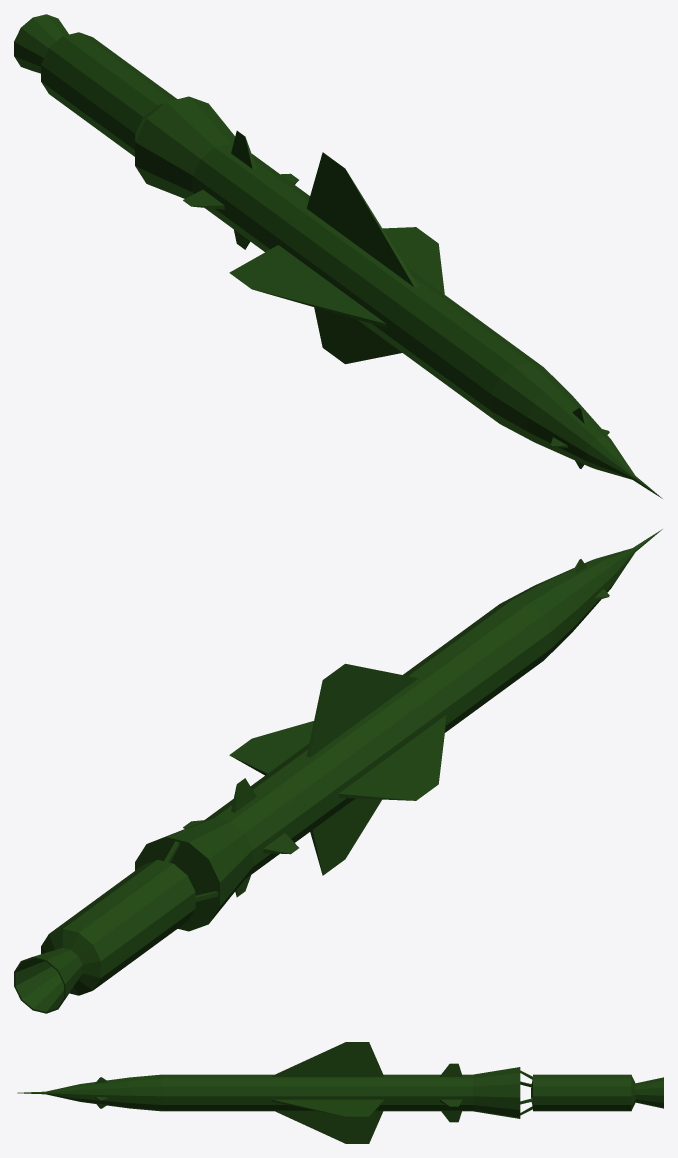
The picture shows the model from 3 angles, top to bottom: view 1: azimuth 30°, elevation 25°; view 2: azimuth 150°, elevation 25°; view 3: azimuth 270°, elevation 25°; orthographic projection. The views are drawn at different scales.
Parts seen in each view (by area): view 1: body; view 2: body; view 3: body.
Boxes of the visible parts, <box> form: body: <box>14,14,662,498</box>; body: <box>14,529,662,1013</box>; body: <box>17,1042,663,1143</box>.
Size of the model in its own units: 210 by 210 by 1216.
